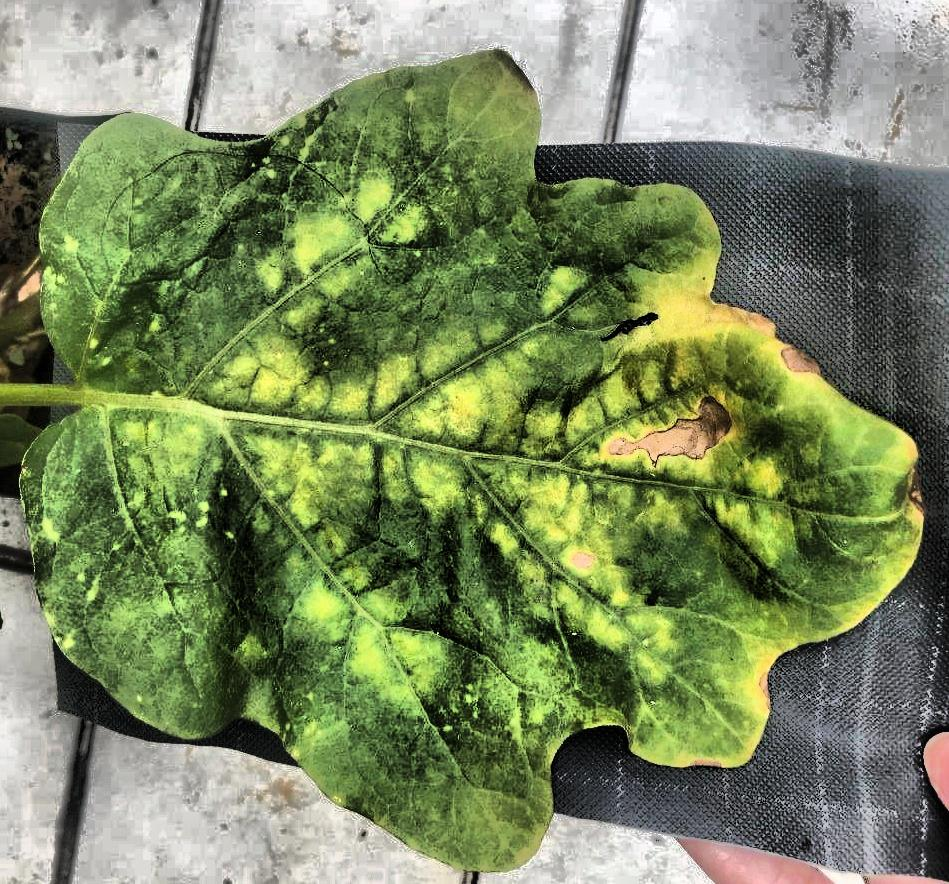Critical Stress: (1, 0, 949, 884)
